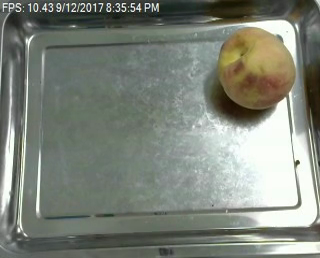Peach: (216, 25, 296, 110)
